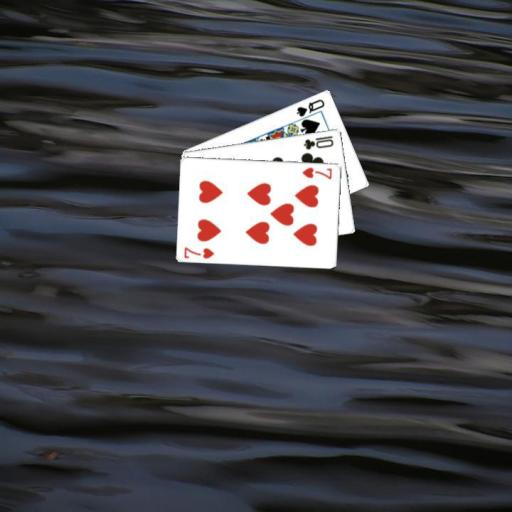10C: (301, 132, 335, 151)
7H: (300, 164, 334, 181), (182, 244, 216, 260)
QS: (293, 96, 326, 118)
